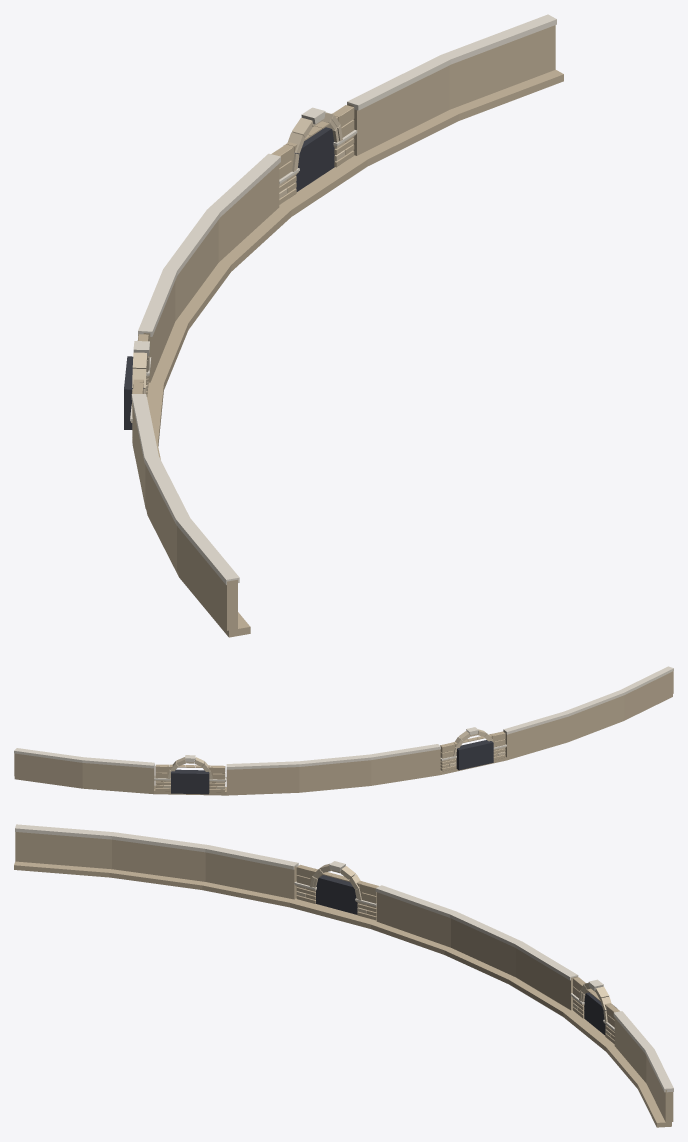
Rendered from COL_Vomitoria_Q3.glb.
3 renders of one model, top to bottom at view 1: azimuth 30°, elevation 25°; view 2: azimuth 150°, elevation 25°; view 3: azimuth 270°, elevation 25°, orthographic. The views are drawn at different scales.
Visible parts, largest first — view 1: COL_Vomitoria_Q3; view 2: COL_Vomitoria_Q3; view 3: COL_Vomitoria_Q3.
Part boxes in pixels (<box>): COL_Vomitoria_Q3: <box>124,14,563,637</box>; COL_Vomitoria_Q3: <box>14,666,673,795</box>; COL_Vomitoria_Q3: <box>14,824,673,1127</box>.
Bounding box in the file's own units: 97.89 × 8.54 × 103.
